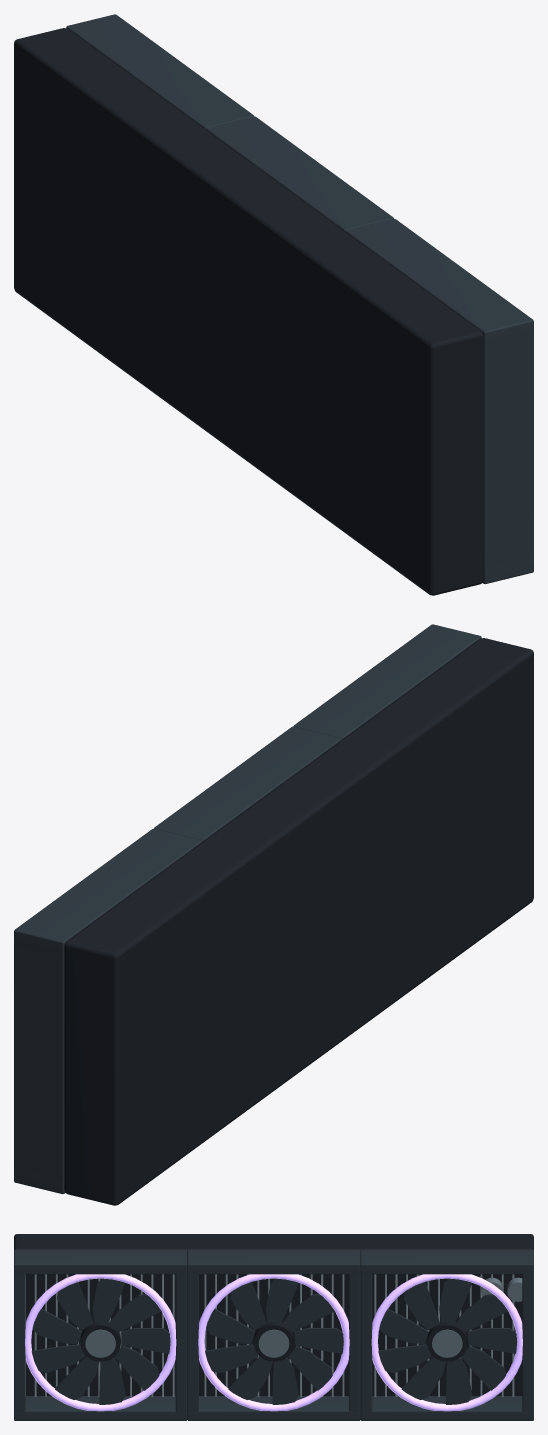
The model's file is radiator_360.glb.
3 views of the same model, one above another, from view 1: azimuth 30°, elevation 25°; view 2: azimuth 150°, elevation 25°; view 3: azimuth 270°, elevation 25° (orthographic). The views are drawn at different scales.
Parts seen in each view (by area): view 1: radiator_360 housing; view 2: radiator_360 housing; view 3: radiator_360 housing, ARGB.
Part boxes in pixels (bbox=[...]): radiator_360 housing: bbox=[14, 14, 533, 595]; radiator_360 housing: bbox=[14, 624, 533, 1205]; radiator_360 housing: bbox=[14, 1234, 533, 1420]; ARGB: bbox=[25, 1274, 522, 1411].
Size of the model in its own units: 53.21 by 120 by 360.
